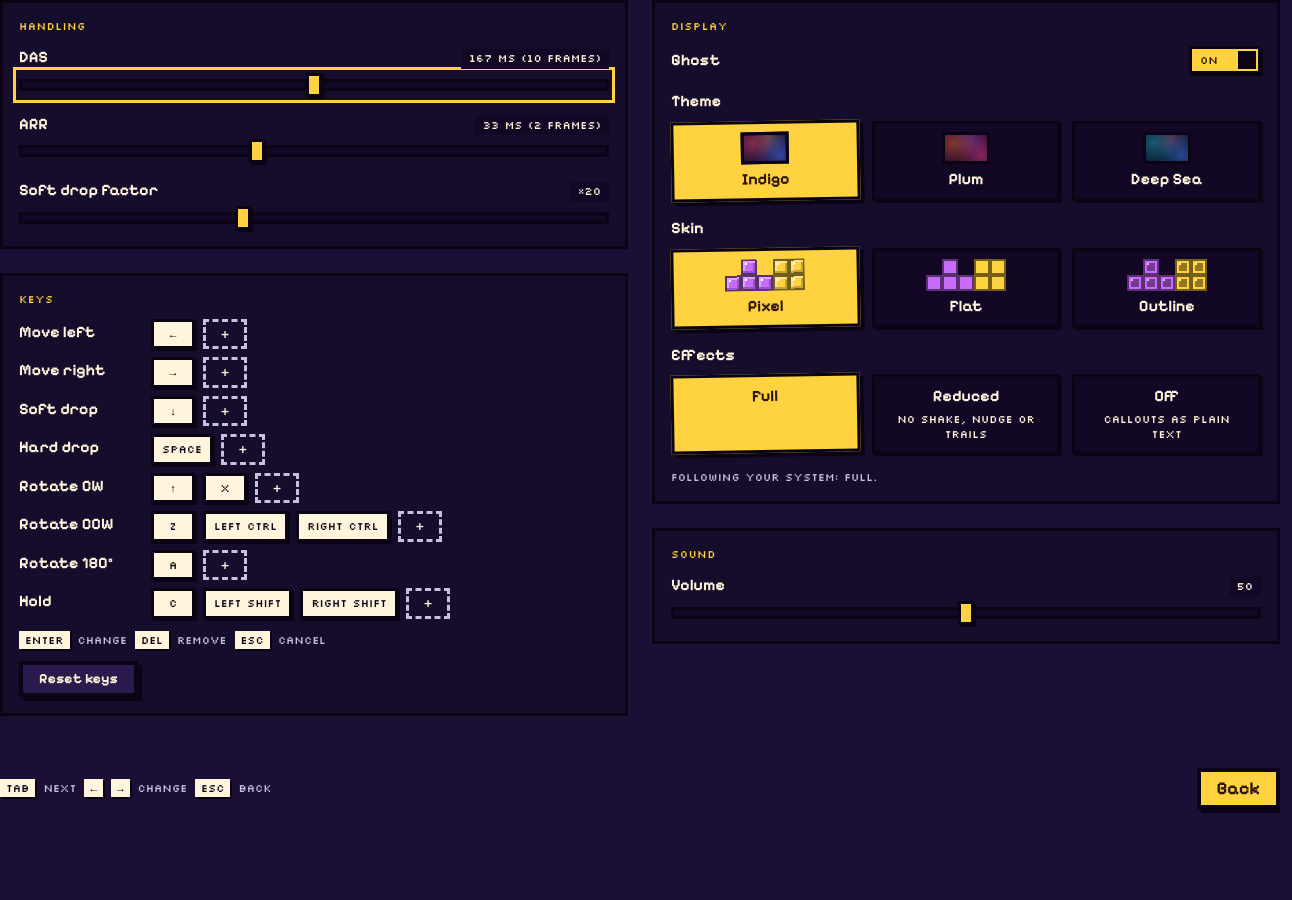
Test: bindings › warns when W, T or N is bound while Ctrl is
Expected: the text "don't let a page block" is not shown
Click the button named "Rotate 180°: A": (173, 565) [151,550,195,580]
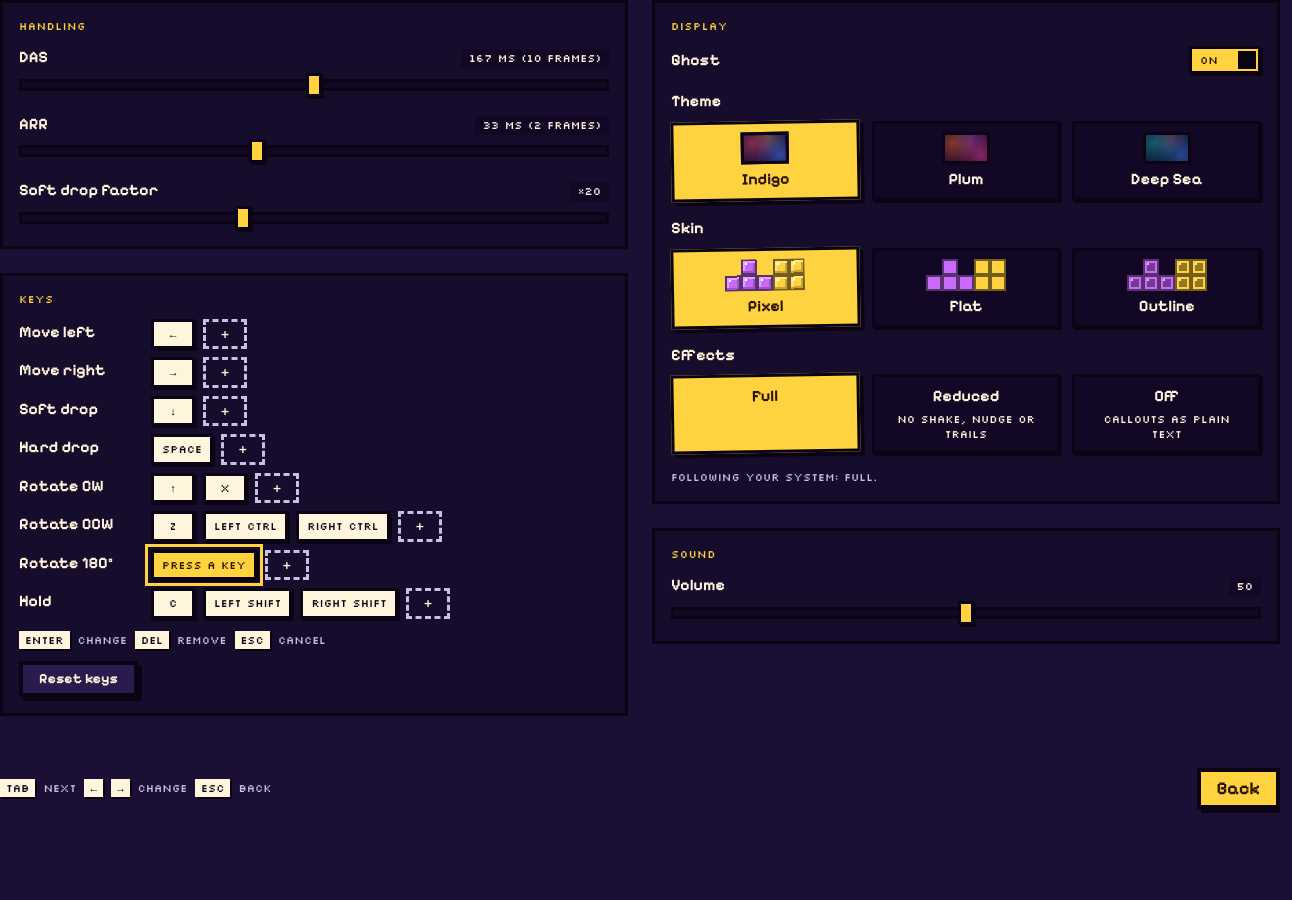
Type keys "w"
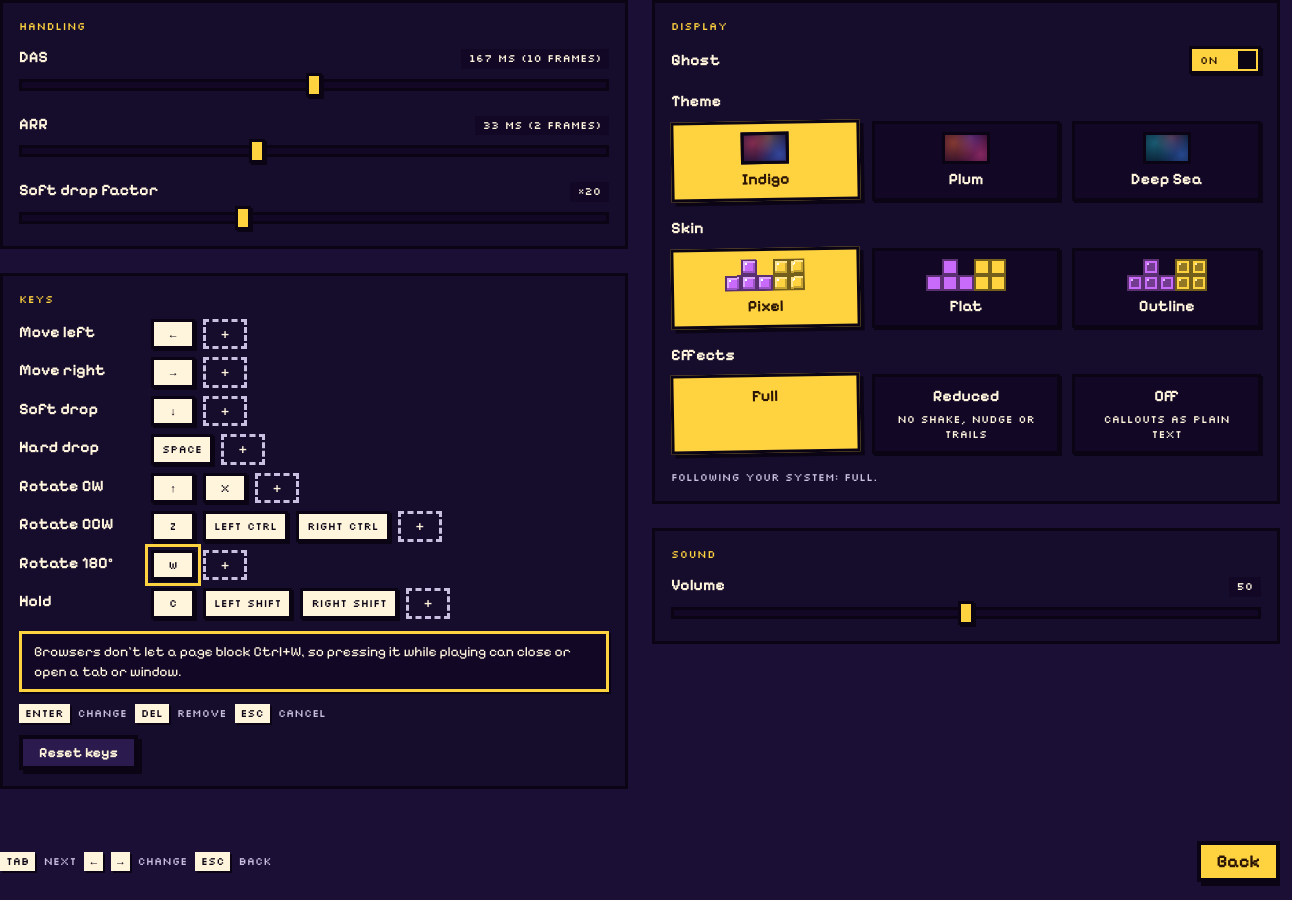
Result: the 1st message shows "Browsers don't let a page block Ctrl+W" at [34,643,571,680]
